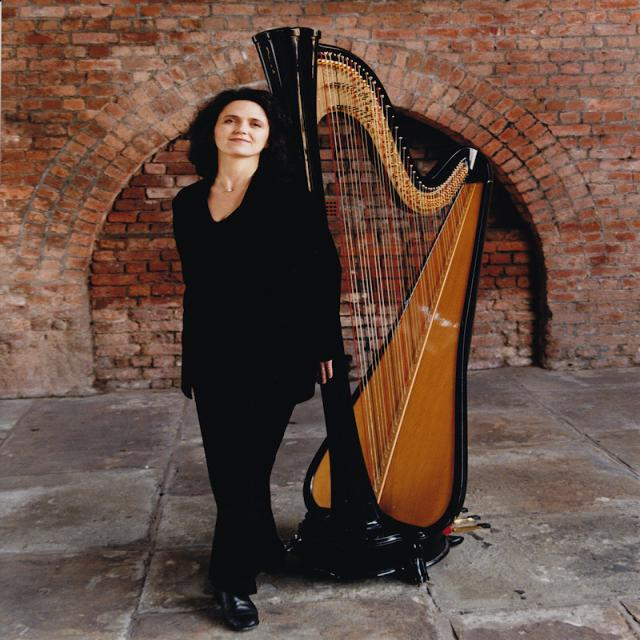harp: (252, 20, 494, 585)
